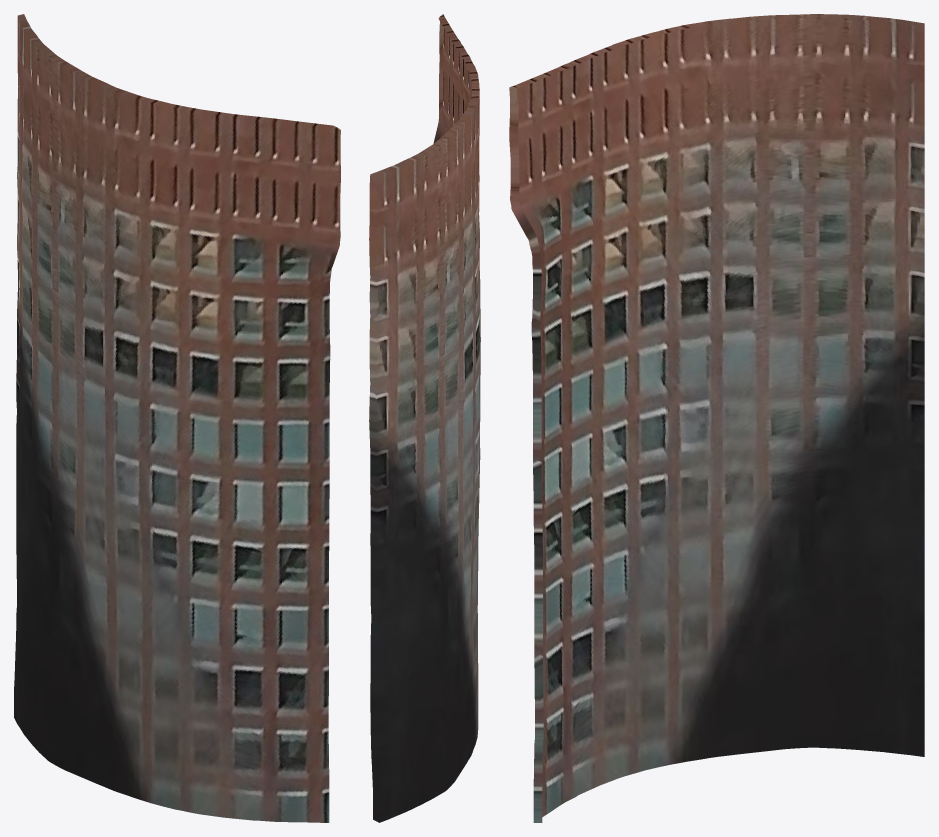
Rendered from z20-167777-405233-h1-yup-uvflip-v3-world.glb.
The picture shows the model from 3 angles, left to right: view 1: azimuth 30°, elevation 25°; view 2: azimuth 150°, elevation 25°; view 3: azimuth 270°, elevation 25°; orthographic projection. The views are drawn at different scales.
Bounding box in the file's own units: 9.96 × 45.16 × 23.12.
1 material, 1 textured.
